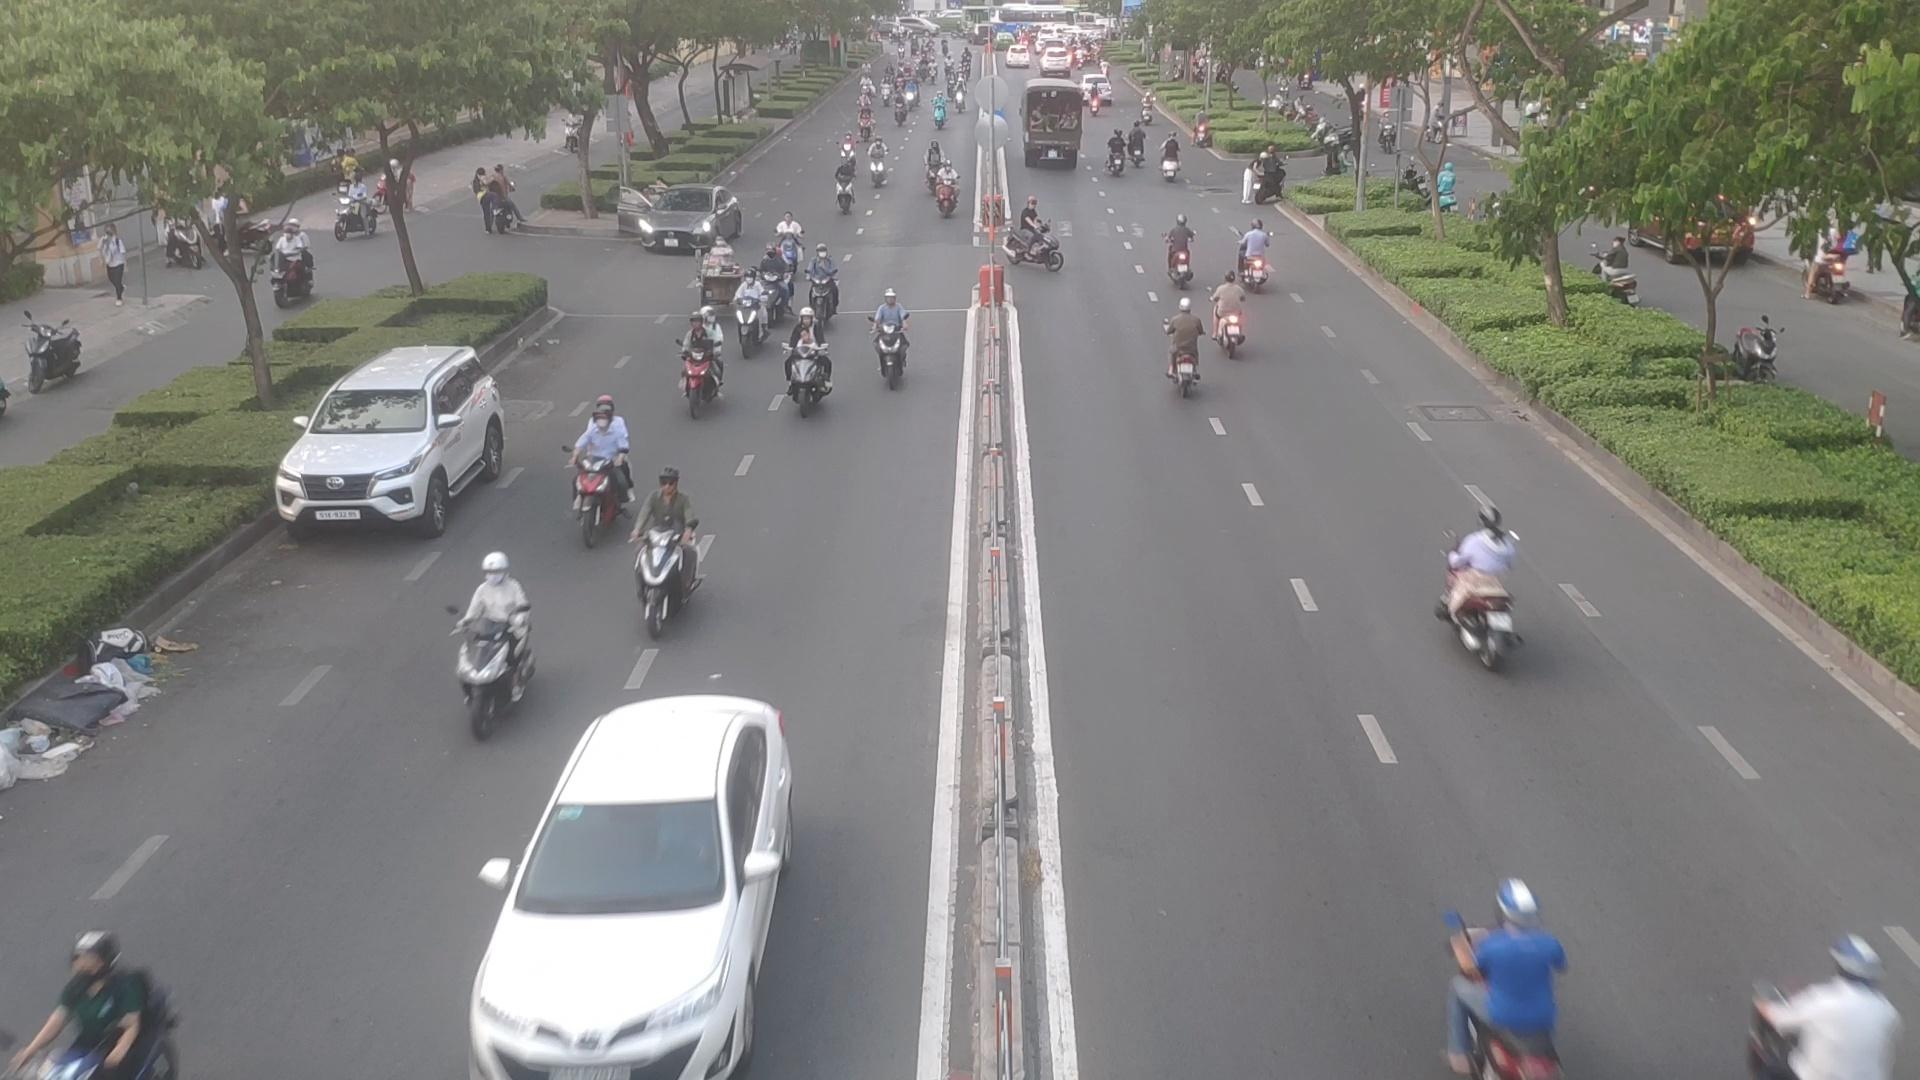car: (274, 345, 512, 534), (620, 189, 741, 258)
motorbike: (1404, 874, 1577, 1080), (1746, 927, 1911, 1080), (36, 924, 181, 1080), (1437, 495, 1531, 661), (463, 543, 537, 720), (632, 475, 713, 628), (576, 384, 640, 539), (1007, 194, 1079, 272), (676, 301, 727, 407), (1160, 297, 1211, 400), (777, 338, 836, 415), (873, 281, 916, 380), (1215, 261, 1253, 360), (804, 239, 847, 319), (731, 272, 774, 347), (1234, 219, 1279, 290), (1163, 208, 1201, 289), (931, 154, 967, 224), (1250, 141, 1291, 200), (866, 123, 899, 190), (833, 150, 862, 222), (1151, 131, 1184, 186), (1106, 131, 1124, 174)
